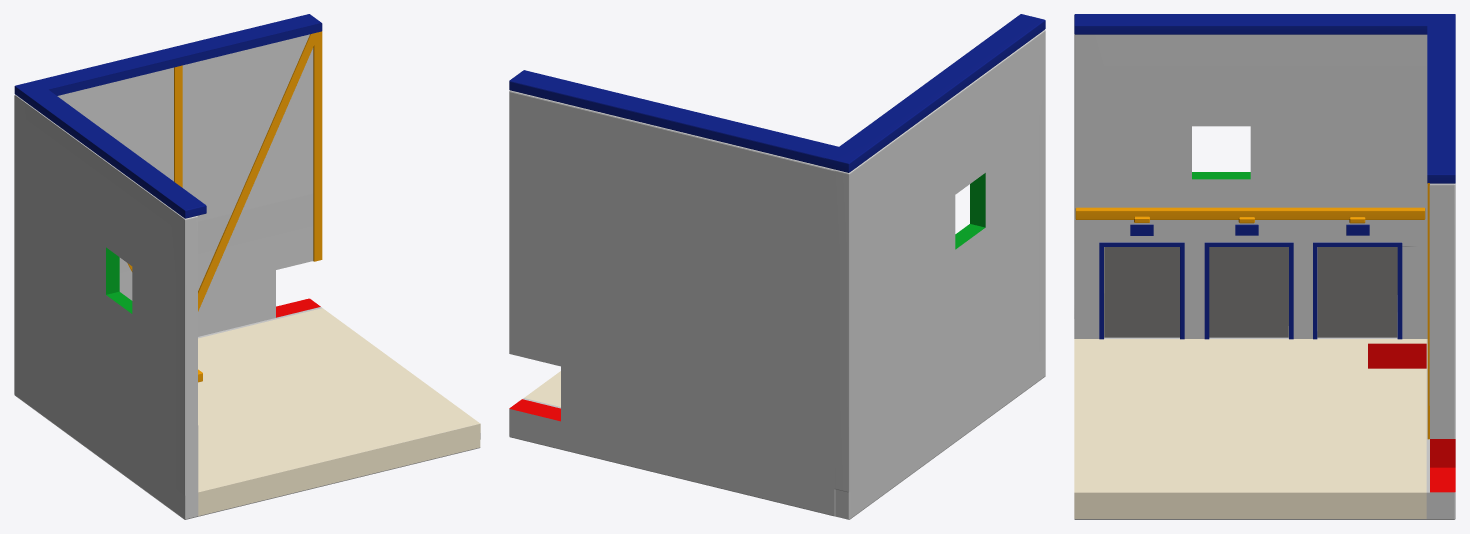
The model's file is cube_sta6.fbx.
3 views of the same model, side by side, from view 1: azimuth 30°, elevation 25°; view 2: azimuth 150°, elevation 25°; view 3: azimuth 270°, elevation 25° (orthographic). The views are drawn at different scales.
Visible parts, largest first — view 1: polySurface66; view 2: polySurface66; view 3: polySurface66.
Part boxes in pixels (x1,y1,x2,y2): polySurface66: [14, 14, 480, 519]; polySurface66: [509, 14, 1045, 519]; polySurface66: [1074, 14, 1455, 519].
Bounding box in the file's own units: 6.49 × 6.5 × 6.5.
